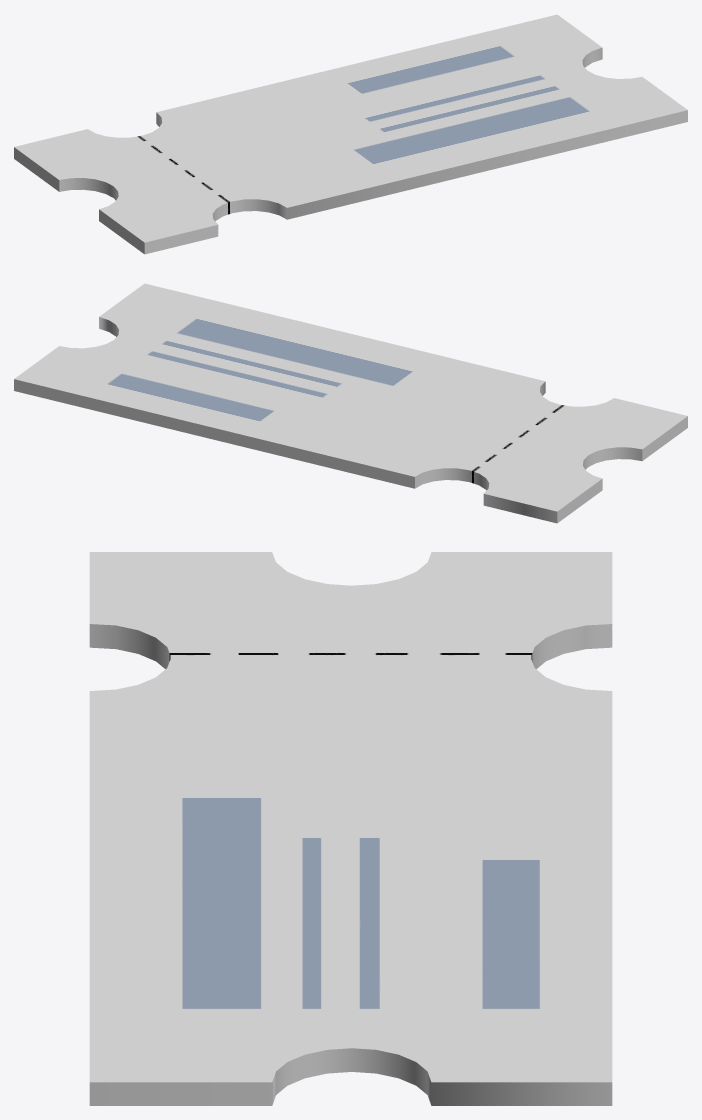
The model's file is Ticket.fbx.
The picture shows the model from 3 angles, top to bottom: view 1: azimuth 30°, elevation 25°; view 2: azimuth 150°, elevation 25°; view 3: azimuth 270°, elevation 25°; orthographic projection. The views are drawn at different scales.
Parts seen in each view (by area): view 1: Ticket; view 2: Ticket; view 3: Ticket.
Part boxes in pixels (bbox=[...]): Ticket: bbox=[14, 14, 687, 254]; Ticket: bbox=[14, 283, 687, 523]; Ticket: bbox=[89, 552, 612, 1105].
Size of the model in its own units: 1.2 by 0.025 by 0.5.
